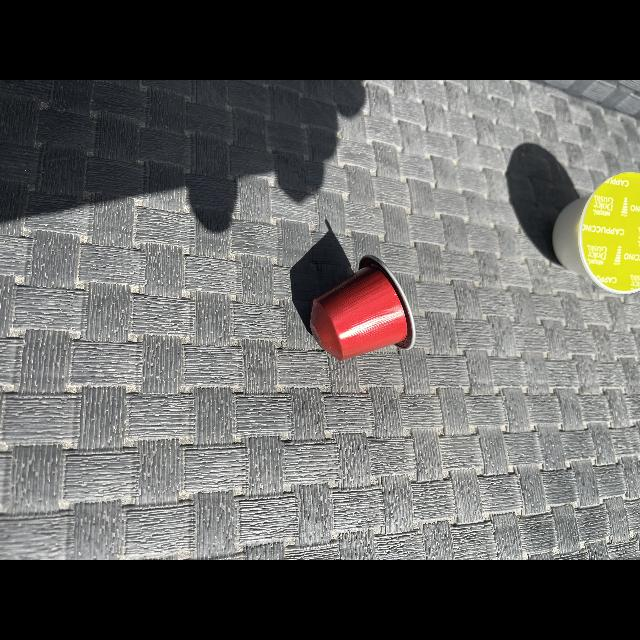intact_capsule: (304, 246, 428, 370)
